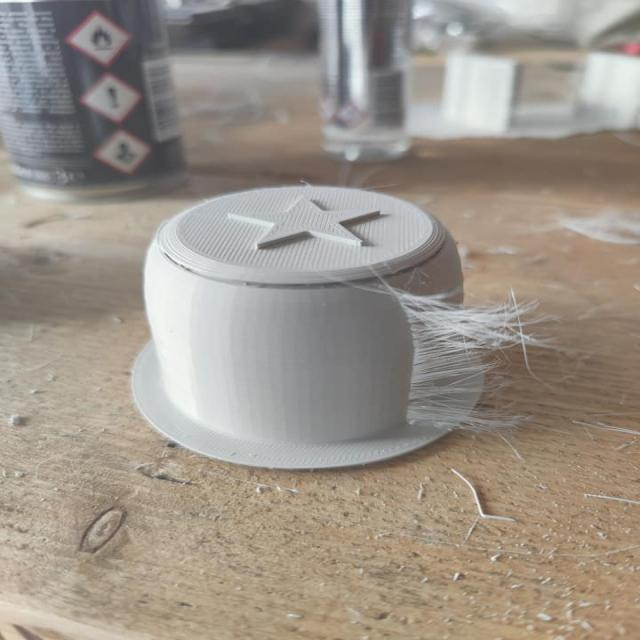Stringing: (410, 296, 520, 434)
